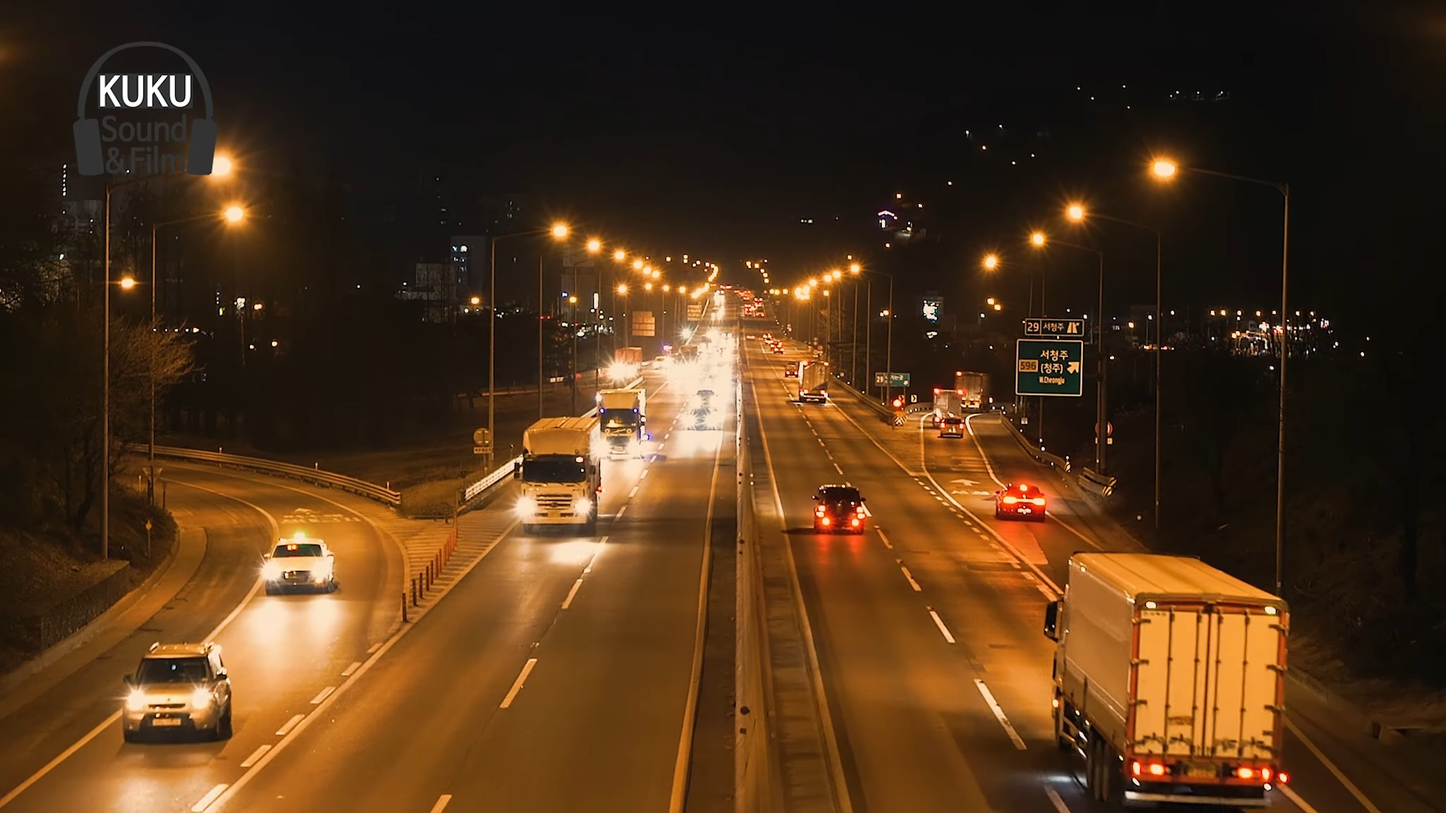car: (127, 639, 236, 748), (262, 531, 333, 601), (814, 484, 870, 539), (996, 482, 1046, 522)
truck: (1047, 553, 1288, 807), (514, 420, 602, 538), (586, 385, 655, 466)
